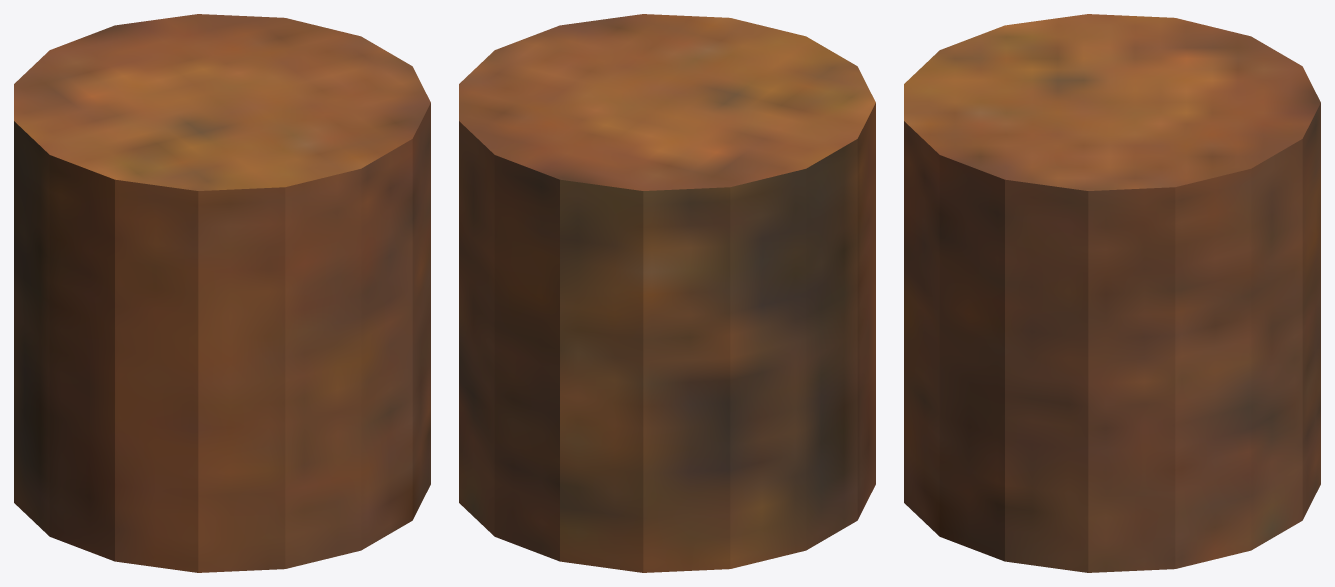
File: CircleFloot.fbx
3 views of the same model, side by side, from view 1: azimuth 30°, elevation 25°; view 2: azimuth 150°, elevation 25°; view 3: azimuth 270°, elevation 25° (orthographic).
Parts seen in each view (by area): view 1: Cylinder; view 2: Cylinder; view 3: Cylinder.
Boxes of the visible parts, box(x1,y1,x2,y2) form: Cylinder: box(14, 14, 430, 572); Cylinder: box(459, 14, 875, 572); Cylinder: box(904, 14, 1320, 572).
Size of the model in its own units: 4175 by 4198 by 4152.
Materials: 1 (1 with a texture image).
